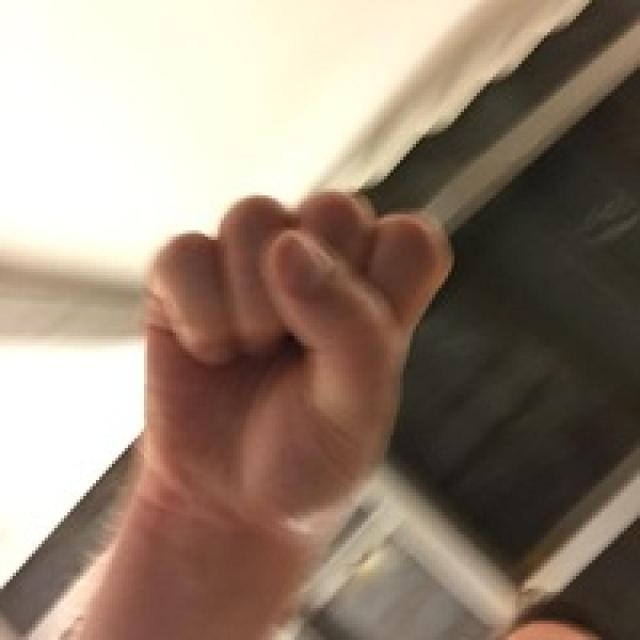S: (116, 177, 476, 522)
